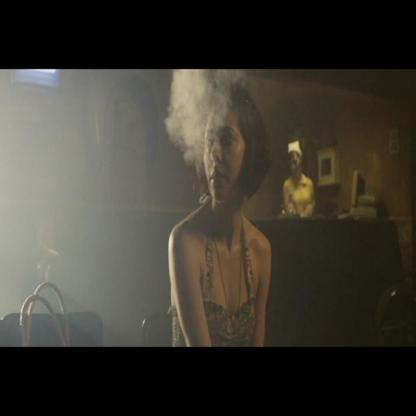smoke: (160, 68, 246, 173)
